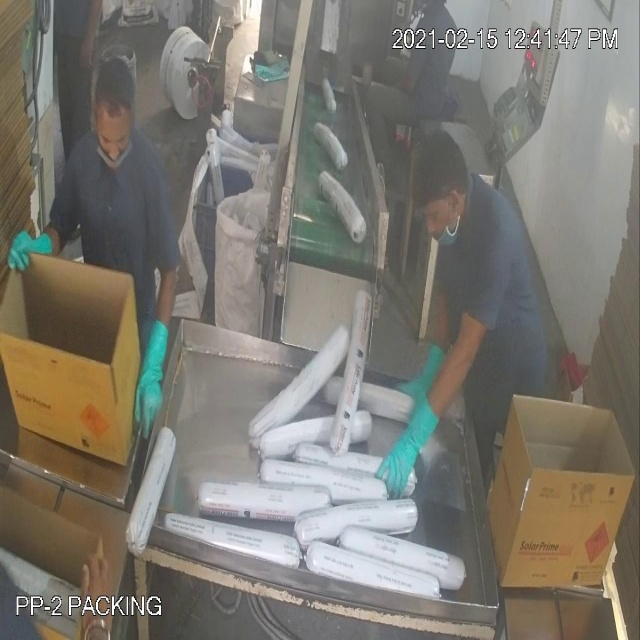Guantes: (364, 388, 451, 509), (118, 319, 175, 449), (1, 214, 69, 289)
Sin_guantes: (69, 540, 121, 640), (78, 1, 101, 72)
